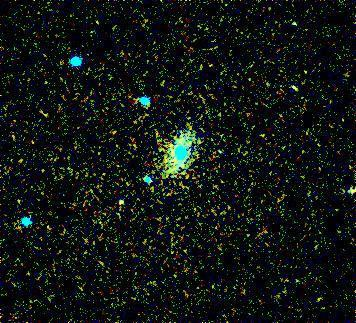star: (103, 185, 133, 215)
